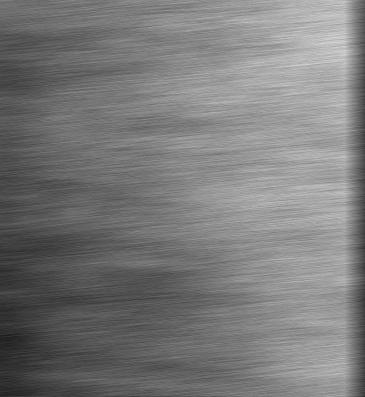Airbag: (0, 0, 365, 396), (357, 0, 365, 396)
